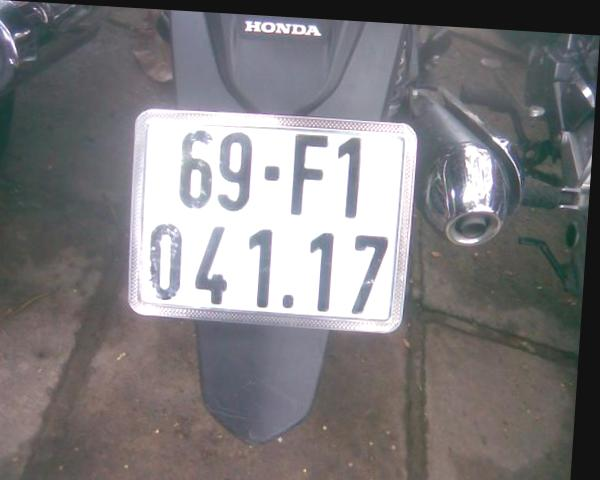License_Plate: (120, 105, 412, 333)
